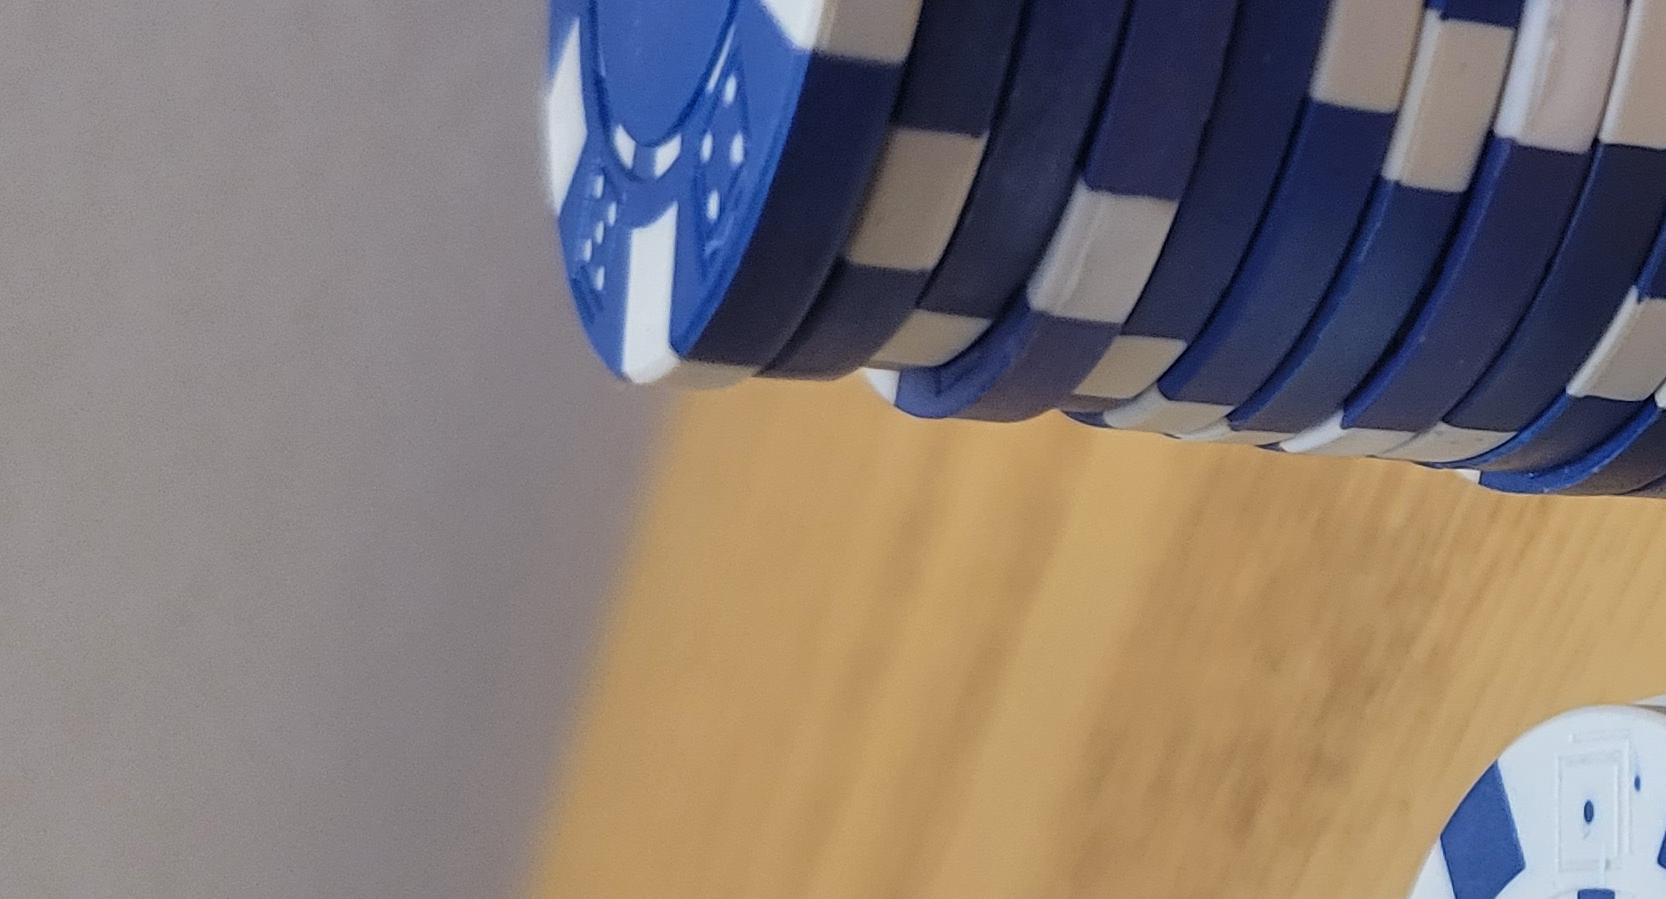Chip: (1, 350, 1210, 899)
